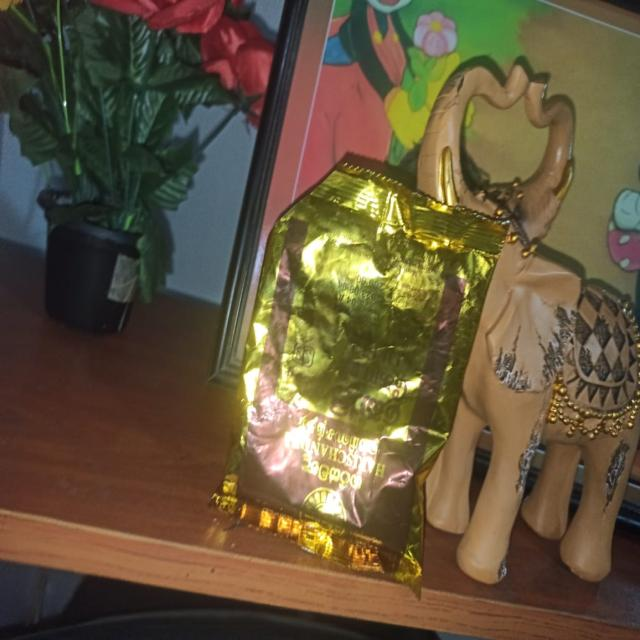Harischandra Coffee: (224, 155, 465, 564)
